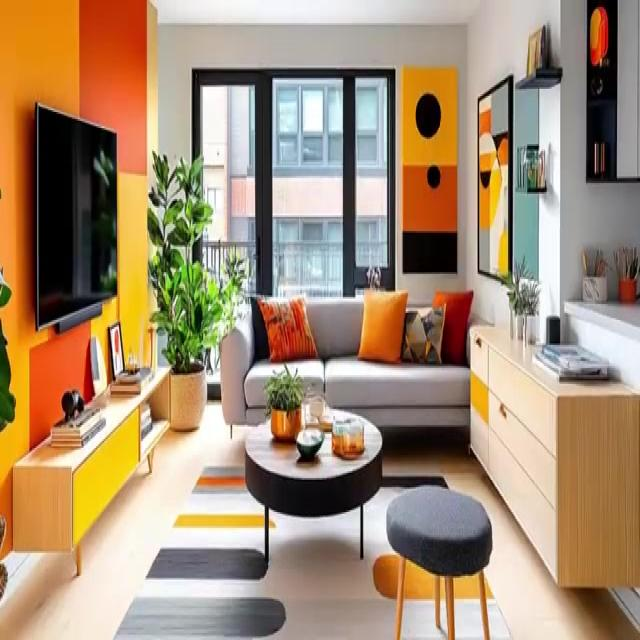obstacle: (469, 327, 639, 590), (219, 293, 493, 448), (12, 363, 171, 576), (244, 406, 383, 564), (382, 485, 491, 640), (585, 0, 639, 183)
